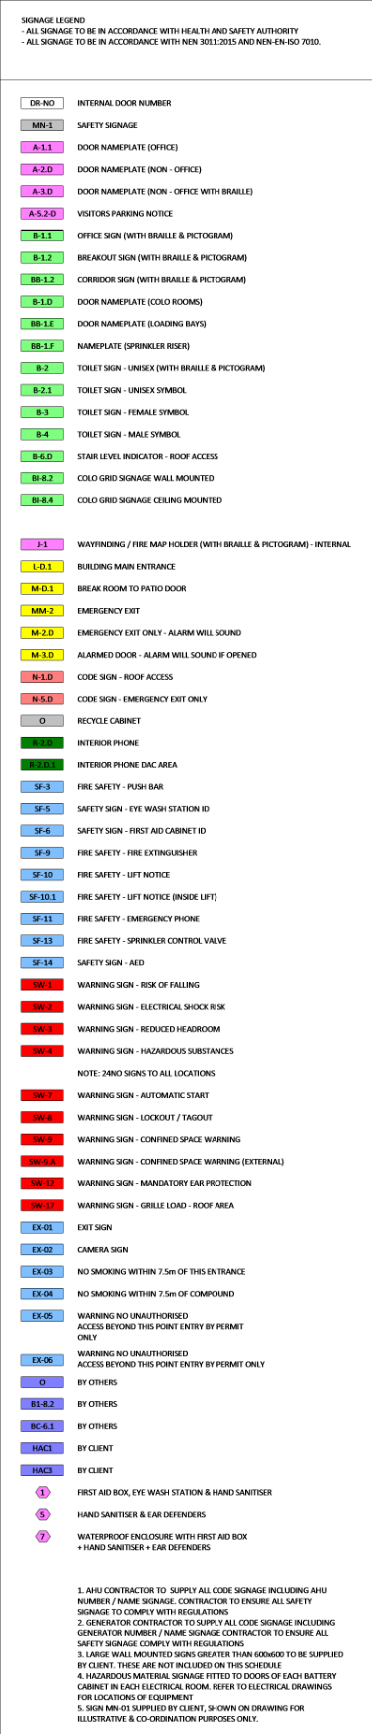hatch: (17, 1019, 66, 1038), (17, 1150, 68, 1169), (17, 1350, 68, 1369), (17, 1194, 66, 1213), (17, 1106, 65, 1125), (15, 777, 66, 795), (17, 1393, 64, 1412), (15, 999, 66, 1015), (19, 137, 66, 155), (19, 821, 66, 838), (14, 844, 66, 859), (13, 976, 65, 992), (17, 1041, 64, 1057), (17, 1438, 64, 1454), (19, 1086, 63, 1104), (19, 94, 65, 111), (20, 227, 66, 243), (17, 668, 63, 685), (19, 801, 69, 816), (18, 1131, 68, 1147), (17, 867, 65, 882), (15, 1174, 64, 1190), (19, 425, 64, 441), (15, 492, 68, 506), (17, 735, 69, 750), (18, 536, 65, 552), (19, 1264, 66, 1279), (21, 337, 65, 354), (17, 448, 66, 462), (17, 890, 66, 905), (18, 1242, 68, 1256), (19, 181, 64, 197), (19, 558, 68, 573), (18, 161, 65, 176), (18, 625, 65, 639), (19, 1220, 66, 1234), (17, 1308, 64, 1323), (29, 1527, 63, 1547), (17, 317, 68, 331), (17, 206, 63, 220), (18, 471, 64, 485), (19, 1375, 69, 1388), (19, 362, 64, 376), (20, 713, 65, 728), (19, 1463, 68, 1476), (22, 954, 63, 970), (20, 1287, 68, 1300), (21, 911, 64, 926), (19, 603, 65, 616), (19, 1418, 65, 1431), (21, 383, 63, 397), (20, 117, 65, 130), (20, 759, 65, 772), (18, 251, 65, 263), (28, 1504, 62, 1521), (21, 273, 66, 285), (20, 295, 64, 307), (20, 407, 64, 419), (21, 933, 65, 946), (17, 583, 64, 594), (20, 693, 65, 704), (20, 648, 64, 659), (29, 1484, 56, 1502)
label: (72, 1310, 246, 1343), (74, 1346, 269, 1372), (70, 1528, 266, 1554), (71, 1150, 289, 1171), (69, 1482, 286, 1502), (71, 539, 354, 553), (74, 359, 271, 377), (72, 646, 261, 664), (68, 1502, 223, 1523), (71, 1285, 249, 1303), (68, 467, 226, 487), (70, 996, 236, 1015), (73, 1262, 260, 1278), (71, 182, 255, 199), (74, 1176, 257, 1191), (73, 492, 230, 510), (66, 625, 244, 640), (72, 1197, 237, 1213), (73, 248, 249, 263), (74, 798, 218, 817), (71, 688, 214, 707), (72, 1087, 219, 1105), (69, 449, 225, 464), (71, 291, 207, 309), (71, 823, 215, 839), (74, 889, 228, 905), (76, 1109, 218, 1126), (72, 1132, 249, 1146), (71, 932, 232, 947), (74, 974, 205, 992), (74, 1043, 235, 1057), (71, 272, 245, 285), (74, 1020, 223, 1035), (72, 159, 209, 176), (74, 909, 201, 927), (70, 230, 239, 243), (72, 579, 198, 597), (70, 315, 214, 331), (72, 844, 201, 860), (72, 137, 184, 156), (71, 337, 197, 354), (68, 382, 201, 397), (70, 426, 185, 442), (70, 206, 179, 222), (69, 669, 183, 685), (72, 558, 182, 574), (72, 756, 184, 771), (68, 868, 179, 882), (71, 406, 190, 419), (69, 779, 173, 793), (70, 711, 153, 728), (72, 96, 174, 109), (70, 603, 148, 618), (74, 732, 148, 748), (71, 116, 143, 132), (71, 1241, 143, 1256), (70, 955, 152, 969), (72, 1394, 126, 1413), (72, 1419, 126, 1438), (70, 1216, 121, 1234), (70, 1441, 123, 1458), (69, 1462, 122, 1477), (76, 1377, 124, 1390)
